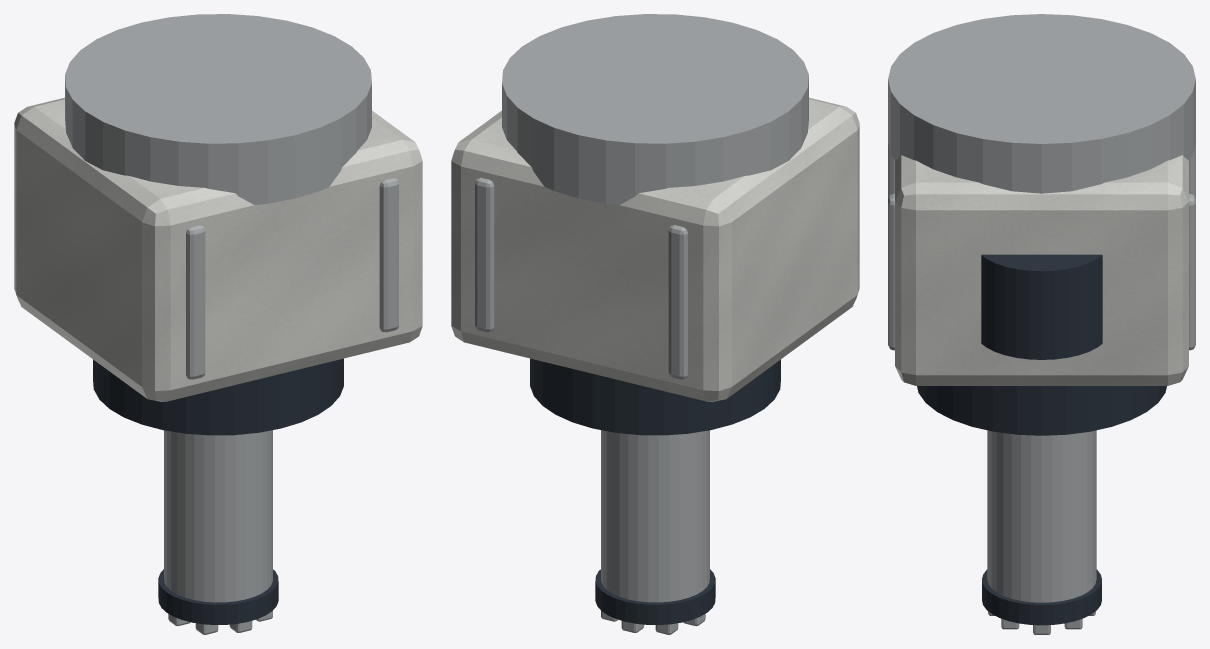
Rendered from rover_coring_drill.glb.
3 views of the same model, side by side, from view 1: azimuth 30°, elevation 25°; view 2: azimuth 150°, elevation 25°; view 3: azimuth 270°, elevation 25° (orthographic).
Visible parts, largest first — view 1: Percussion_Housing, Arm_Adapter, Hollow_CoreBit, Drive_Collar, Cutting_Rim, Housing_Rib.001, Housing_Rib; view 2: Percussion_Housing, Arm_Adapter, Hollow_CoreBit, Drive_Collar, Cutting_Rim, Housing_Rib.001, Housing_Rib; view 3: Percussion_Housing, Arm_Adapter, Hollow_CoreBit, Motor_Endcap, Drive_Collar, Cutting_Rim, Housing_Rib.001, Housing_Rib.
Part boxes in pixels (x1,y1,x2,y2): Percussion_Housing: (14,97,422,401); Arm_Adapter: (65,14,371,204); Hollow_CoreBit: (164,430,272,602); Drive_Collar: (93,358,343,435); Cutting_Rim: (158,569,278,624); Housing_Rib.001: (379,177,398,332); Housing_Rib: (186,225,205,379); Percussion_Housing: (451,97,859,401); Arm_Adapter: (502,14,808,204); Hollow_CoreBit: (601,430,709,602); Drive_Collar: (530,358,780,435); Cutting_Rim: (595,569,715,624); Housing_Rib.001: (475,177,494,332); Housing_Rib: (668,225,687,379); Percussion_Housing: (895,155,1188,385); Arm_Adapter: (888,14,1195,193); Hollow_CoreBit: (987,430,1096,602); Motor_Endcap: (981,254,1102,359); Drive_Collar: (917,386,1166,435); Cutting_Rim: (982,569,1101,625); Housing_Rib.001: (888,193,1195,350); Housing_Rib: (888,142,1195,198).
Size of the model in its own units: 0.258 by 0.4215 by 0.22.
3 materials, 1 textured.
